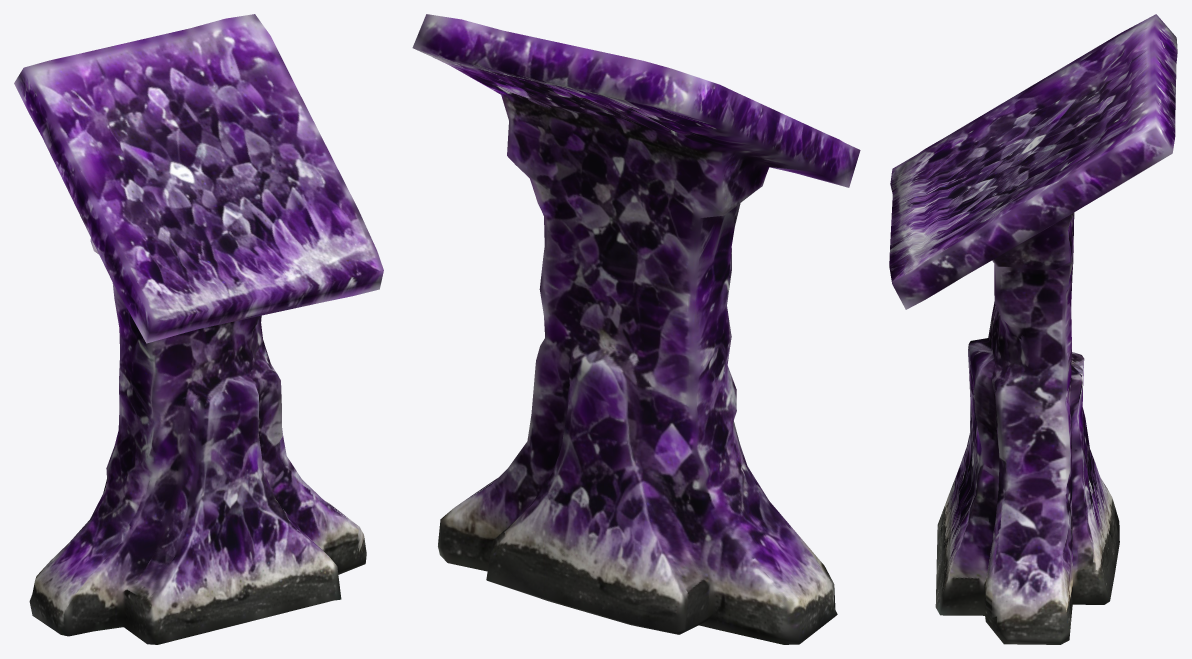
The model's file is structure.glb.
3 views of the same model, side by side, from view 1: azimuth 30°, elevation 25°; view 2: azimuth 150°, elevation 25°; view 3: azimuth 270°, elevation 25° (orthographic). The views are drawn at different scales.
Visible parts, largest first — view 1: Lectern; view 2: Lectern; view 3: Lectern.
Boxes of the visible parts, x1,y1,x2,y2 form: Lectern: [14, 14, 383, 644]; Lectern: [412, 14, 860, 644]; Lectern: [889, 14, 1177, 644].
Bounding box in the file's own units: 0.6363 × 1 × 0.5176.
Materials: 1 (1 with a texture image).
